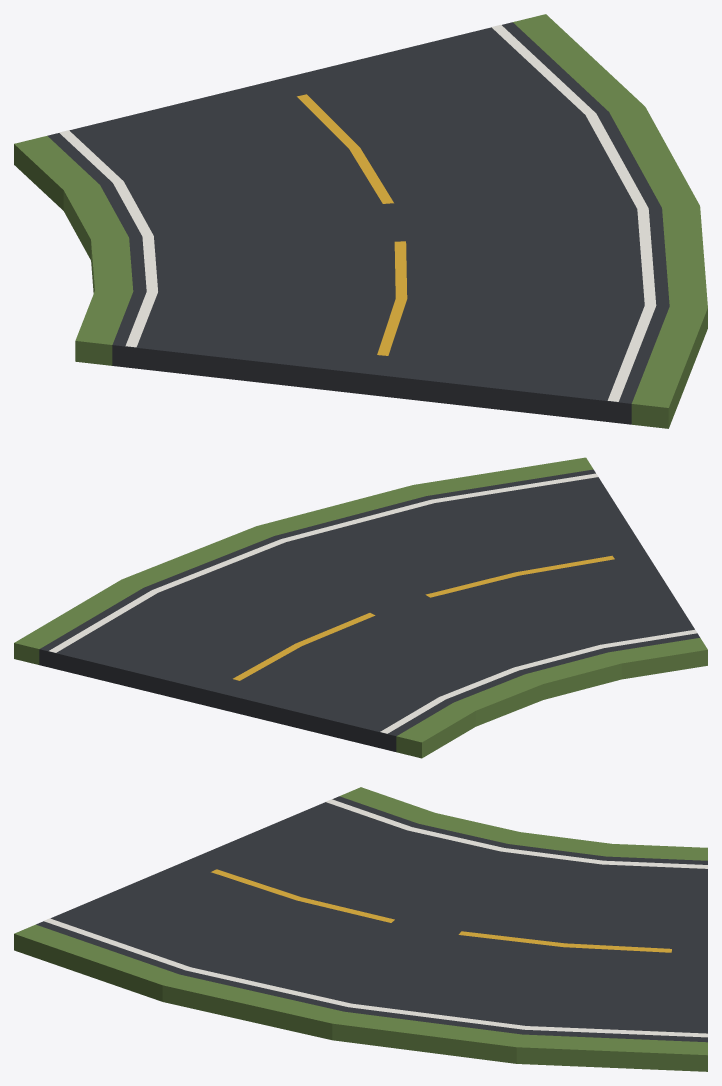
File: Road_2Lane_NoSidewalk_Curve45_R.glb
The picture shows the model from 3 angles, top to bottom: view 1: azimuth 30°, elevation 25°; view 2: azimuth 150°, elevation 25°; view 3: azimuth 270°, elevation 25°; orthographic projection. The views are drawn at different scales.
Visible parts, largest first — view 1: Road_2Lane_NoSidewalk_Curve45_R_Asphalt, Road_2Lane_NoSidewalk_Curve45_R_Grass-edge, Road_2Lane_NoSidewalk_Curve45_R_PaintWhite, Road_2Lane_NoSidewalk_Curve45_R_PaintYellow; view 2: Road_2Lane_NoSidewalk_Curve45_R_Asphalt, Road_2Lane_NoSidewalk_Curve45_R_Grass-edge, Road_2Lane_NoSidewalk_Curve45_R_PaintWhite, Road_2Lane_NoSidewalk_Curve45_R_PaintYellow; view 3: Road_2Lane_NoSidewalk_Curve45_R_Asphalt, Road_2Lane_NoSidewalk_Curve45_R_Grass-edge, Road_2Lane_NoSidewalk_Curve45_R_PaintWhite, Road_2Lane_NoSidewalk_Curve45_R_PaintYellow.
Part boxes in pixels (x1=…): Road_2Lane_NoSidewalk_Curve45_R_Asphalt: x1=47, y1=22, x2=669, y2=424; Road_2Lane_NoSidewalk_Curve45_R_Grass-edge: x1=14, y1=14, x2=707, y2=428; Road_2Lane_NoSidewalk_Curve45_R_PaintWhite: x1=59, y1=24, x2=656, y2=401; Road_2Lane_NoSidewalk_Curve45_R_PaintYellow: x1=297, y1=94, x2=407, y2=355; Road_2Lane_NoSidewalk_Curve45_R_Asphalt: x1=39, y1=469, x2=699, y2=751; Road_2Lane_NoSidewalk_Curve45_R_Grass-edge: x1=14, y1=457, x2=707, y2=758; Road_2Lane_NoSidewalk_Curve45_R_PaintWhite: x1=49, y1=473, x2=697, y2=733; Road_2Lane_NoSidewalk_Curve45_R_PaintYellow: x1=233, y1=555, x2=614, y2=680; Road_2Lane_NoSidewalk_Curve45_R_Asphalt: x1=36, y1=796, x2=707, y2=1042; Road_2Lane_NoSidewalk_Curve45_R_Grass-edge: x1=14, y1=787, x2=707, y2=1071; Road_2Lane_NoSidewalk_Curve45_R_PaintWhite: x1=43, y1=799, x2=707, y2=1037; Road_2Lane_NoSidewalk_Curve45_R_PaintYellow: x1=211, y1=869, x2=671, y2=952.
Size of the model in its own units: 10.34 by 0.305 by 11.31.
